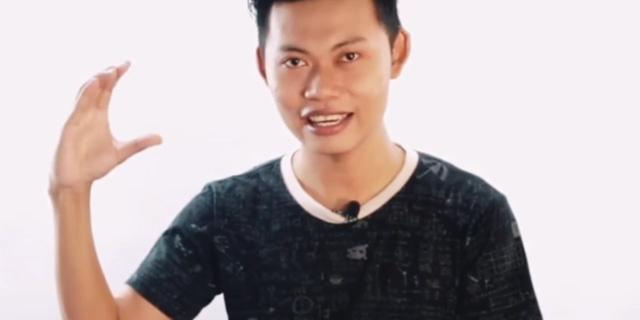C: (48, 61, 162, 195)
